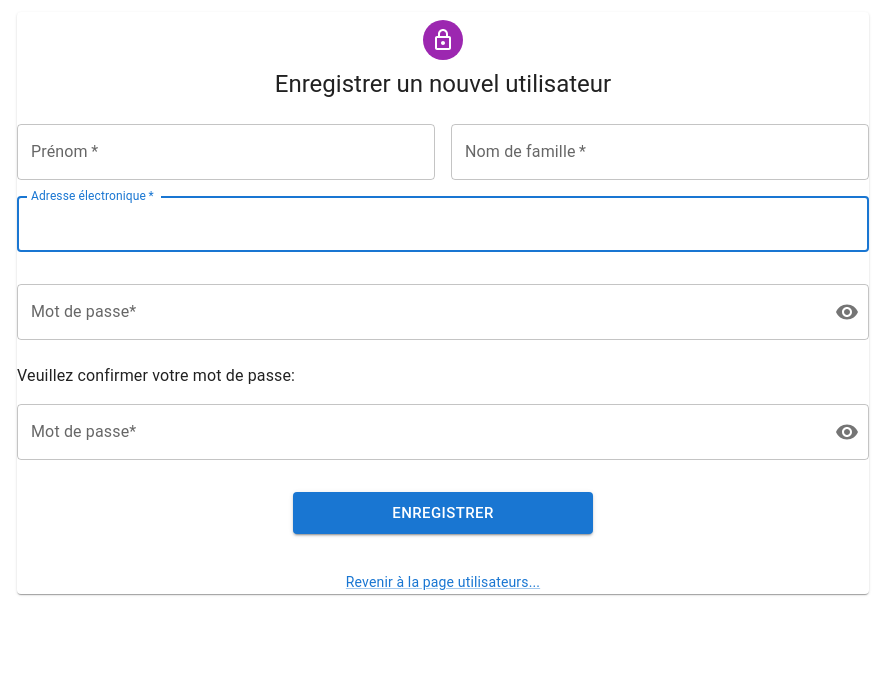
it: NewUser tests › Should load an error text if you enter a wrong input
The image size is (887, 679).
Expected: the text "Seules les lettres sont autorisées ainsi que" is not shown
In the field labelled "Adresse électronique *": (443, 224) [17,196,869,252], type "chocolat"
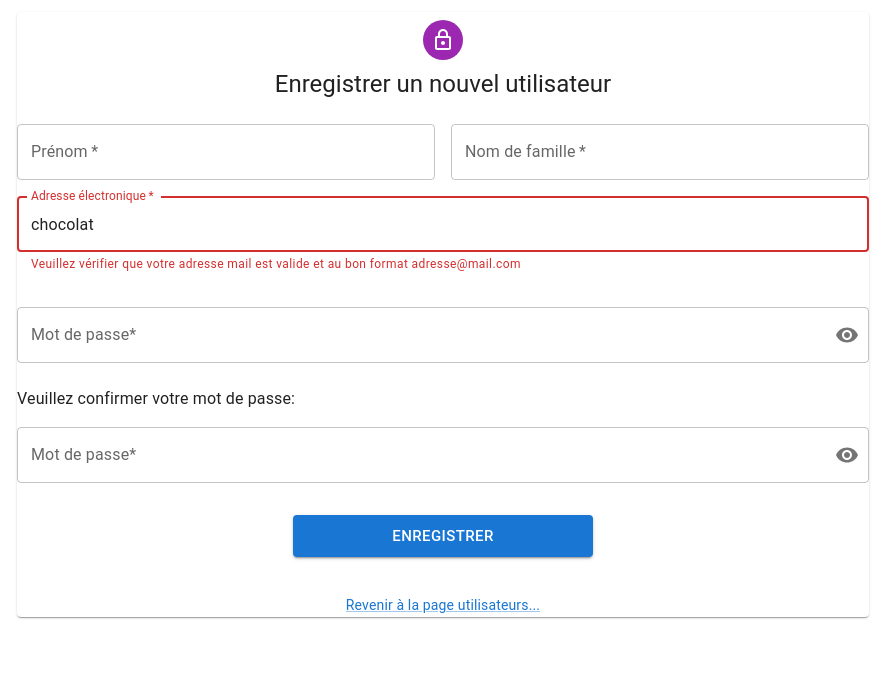
In the field labelled "Nom de famille *": (660, 152) [451,124,869,180], type "1234"
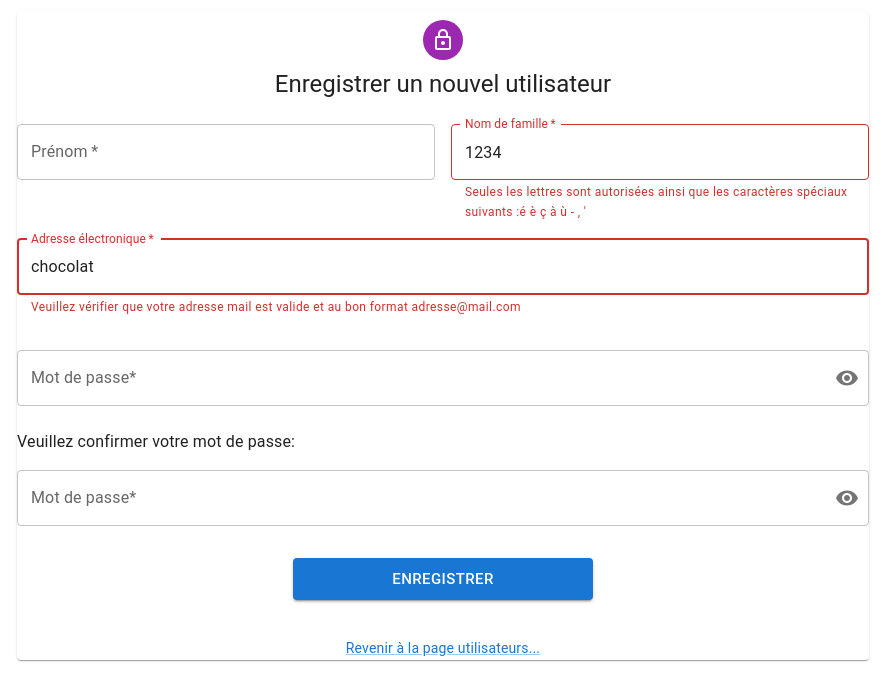
Expected: the text "Veuillez vérifier que votre adresse mail est valide et au bon format adresse@mail.com" is shown, [31,300,521,314]
Expected: the text "Seules les lettres sont autorisées ainsi que" is shown, [465,185,848,219]
